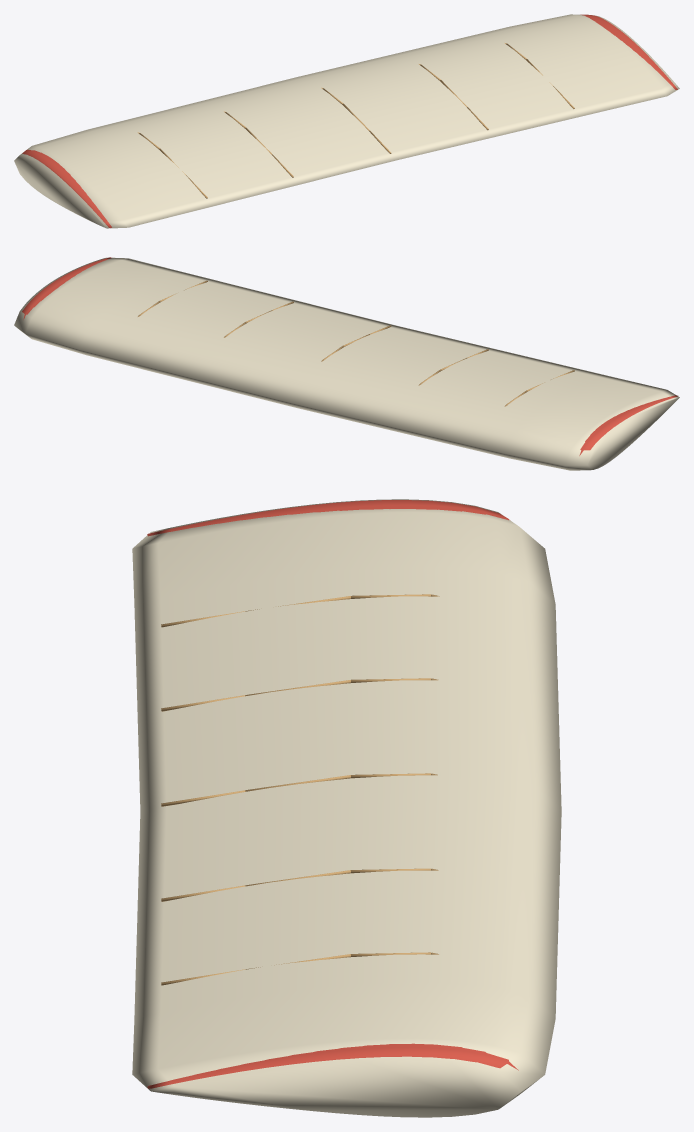
The model's file is wing.glb.
3 renders of one model, top to bottom at view 1: azimuth 30°, elevation 25°; view 2: azimuth 150°, elevation 25°; view 3: azimuth 270°, elevation 25°, orthographic. The views are drawn at different scales.
Visible parts, largest first — view 1: wing_Ivory, wing_Paint, wing_WoodLight; view 2: wing_Ivory, wing_Paint, wing_WoodLight; view 3: wing_Ivory, wing_Paint, wing_WoodLight.
Boxes of the visible parts, x1=… form: wing_Ivory: x1=14, y1=14, x2=679, y2=228; wing_Paint: x1=22, y1=14, x2=677, y2=228; wing_WoodLight: x1=137, y1=43, x2=574, y2=198; wing_Ivory: x1=14, y1=257, x2=679, y2=470; wing_Paint: x1=22, y1=257, x2=677, y2=455; wing_WoodLight: x1=138, y1=280, x2=574, y2=406; wing_Ivory: x1=132, y1=499, x2=561, y2=1117; wing_Paint: x1=147, y1=500, x2=518, y2=1088; wing_WoodLight: x1=161, y1=594, x2=439, y2=985.
Size of the model in its own units: 2.2 by 0.1417 by 0.7133.
